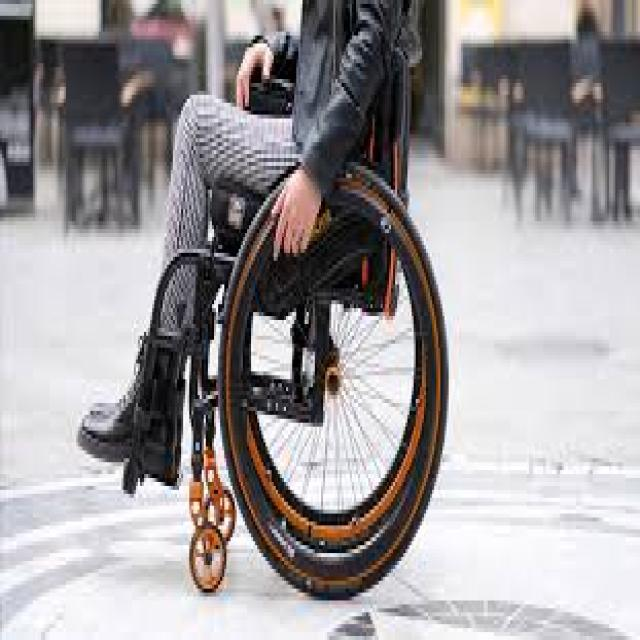wheelchairs: (169, 106, 455, 604)
